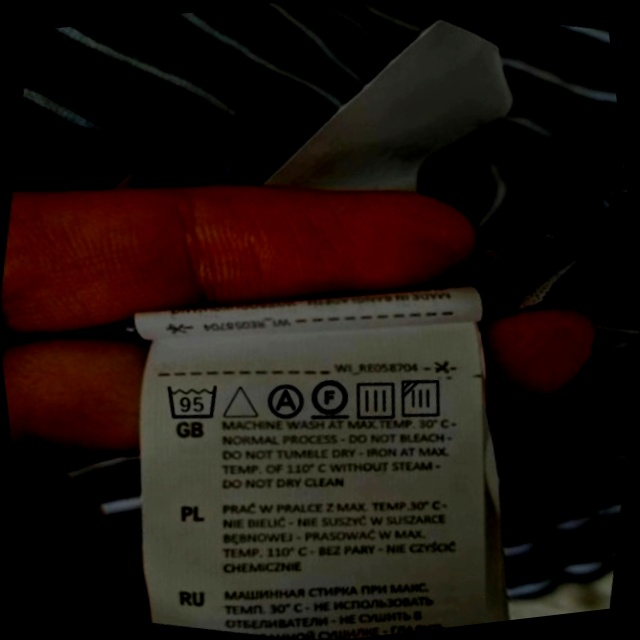95C: (154, 366, 232, 436)
bleach: (212, 370, 269, 432)
drip_dry: (342, 366, 410, 432)
drip_dry_in_shade: (389, 364, 458, 433)
dry_clean: (255, 372, 314, 430)
dry_clean_petrol_only: (298, 364, 362, 432)
